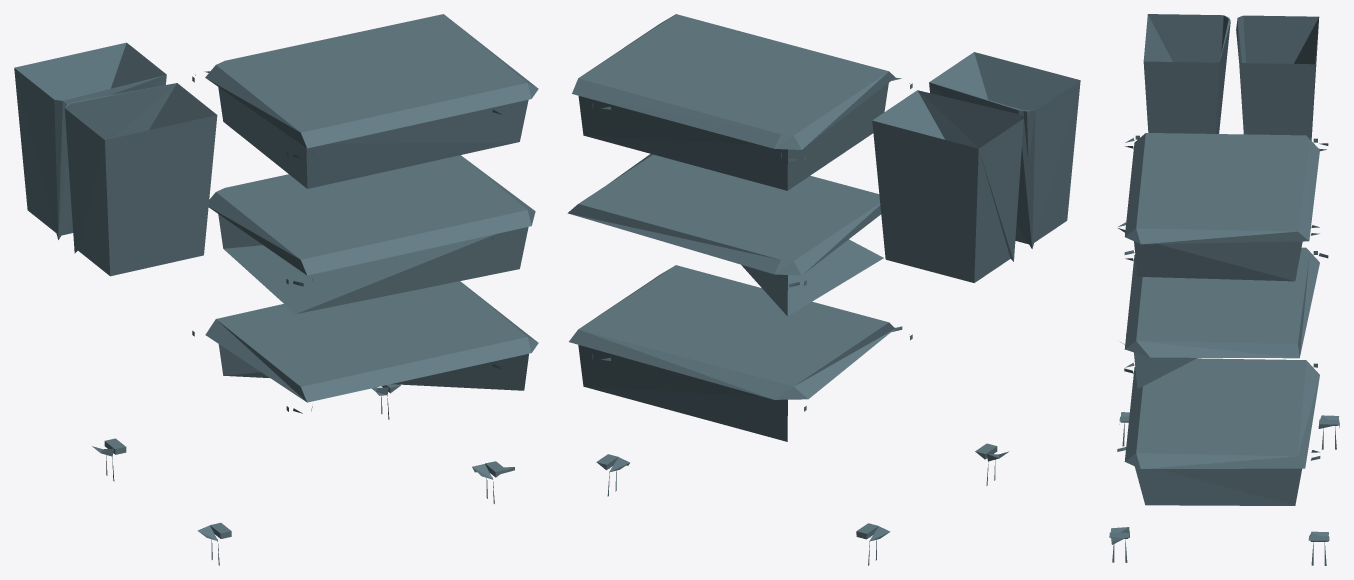
Rendered from med-cart.lod2.glb.
3 views of the same model, side by side, from view 1: azimuth 30°, elevation 25°; view 2: azimuth 150°, elevation 25°; view 3: azimuth 270°, elevation 25° (orthographic). The views are drawn at different scales.
Parts seen in each view (by area): view 1: Armature_low_lambert1_0; view 2: Armature_low_lambert1_0; view 3: Armature_low_lambert1_0.
Part boxes in pixels (left/top/right/bottom): Armature_low_lambert1_0: left=14, top=14, right=538, bottom=565; Armature_low_lambert1_0: left=567, top=14, right=1080, bottom=565; Armature_low_lambert1_0: left=1109, top=14, right=1339, bottom=565.
Bounding box in the file's own units: 0.9504 × 0.9212 × 0.4942.
